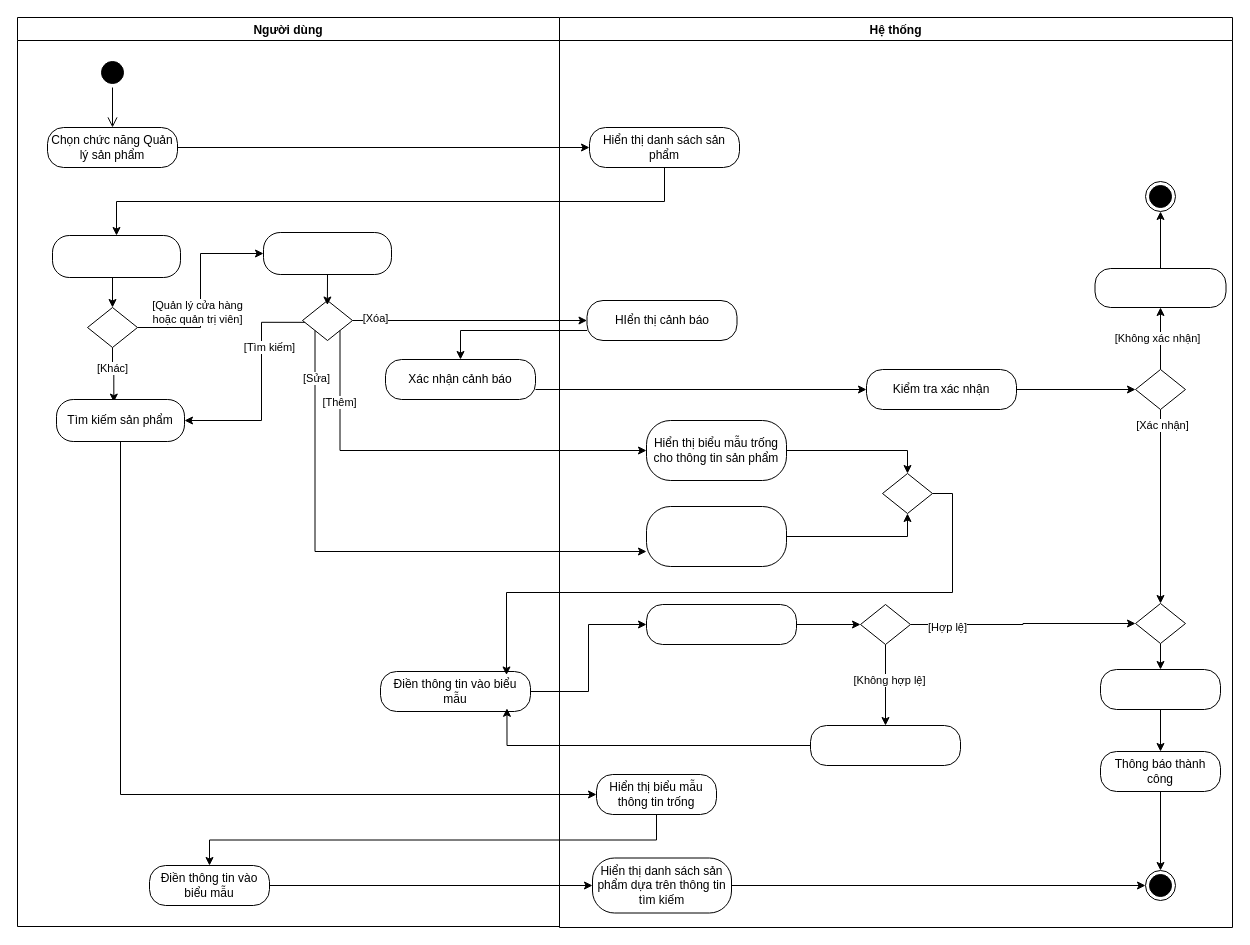
This 1250x945 diagram has some shape labels left out. Each missing label, with the centre of its shape:
"Hiển thị biểu mẫu gồm thông tin sản phẩm" belongs at (716,536).
"Kiểm tra chức vụ" belongs at (116,256).
"Kiểm tra tính hợp lệ của thông tin" belongs at (721,624).
"Thông báo hủy thao tác" belongs at (1160,288).
"Thông báo thông tin không hợp lệ" belongs at (885,745).
"Thực hiện các thao tác quản lý" belongs at (327,253).
"Xử lý thao tác" belongs at (1160,689).
